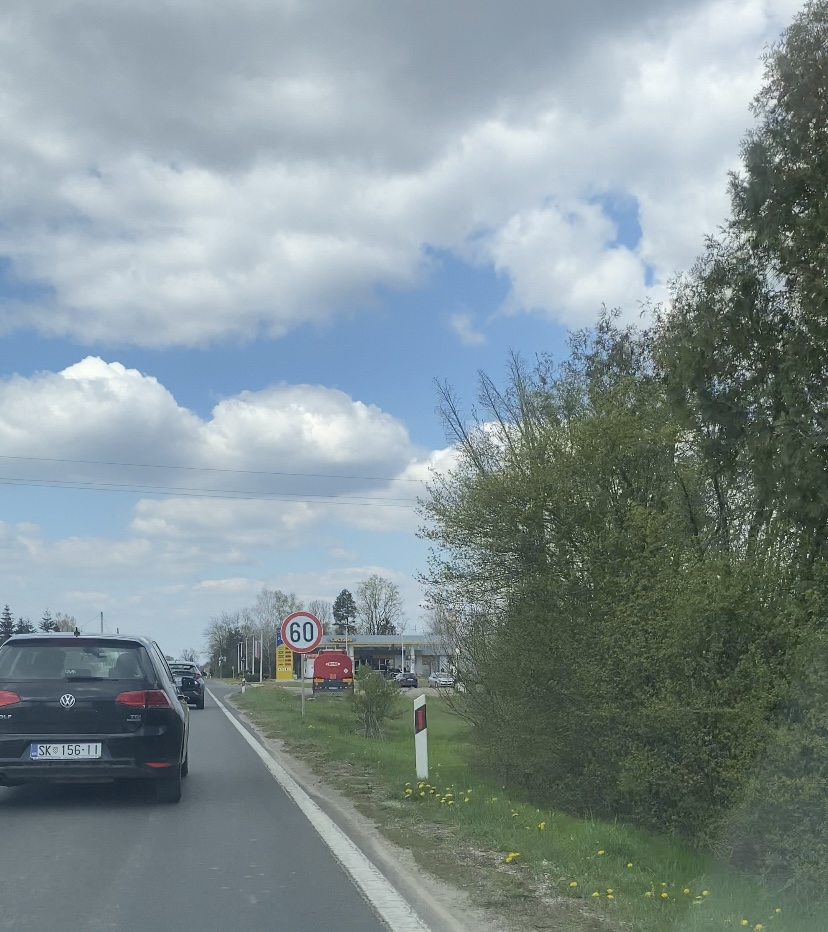Ograničenje brzine 60: (280, 611, 323, 653)
